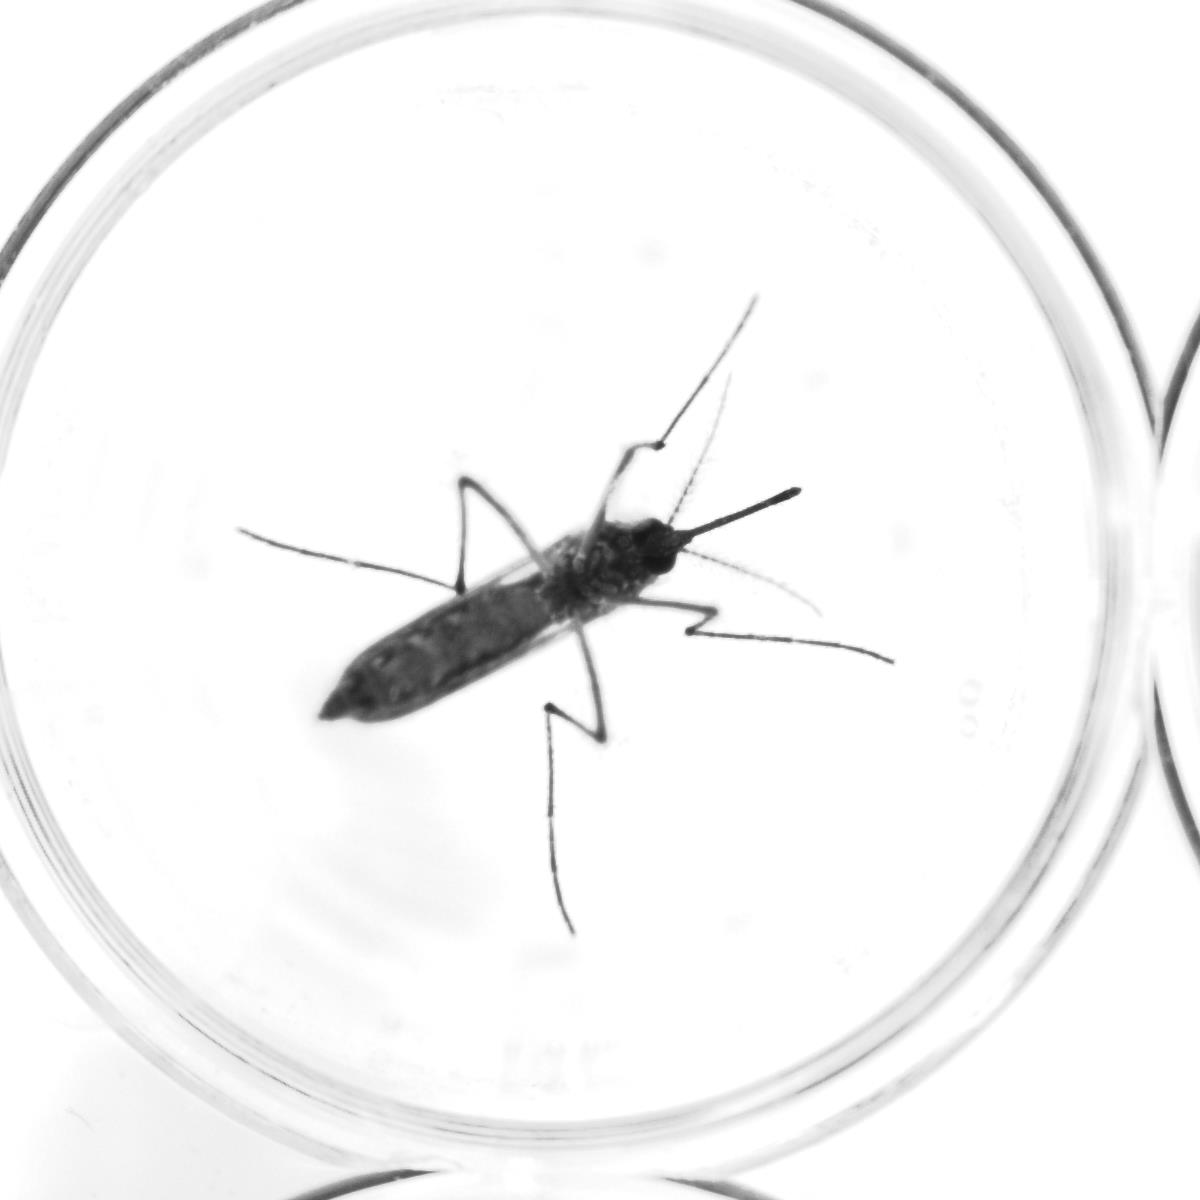f-a: (658, 408, 862, 600)
f-b: (282, 400, 882, 867)
f-c: (303, 684, 376, 735)
